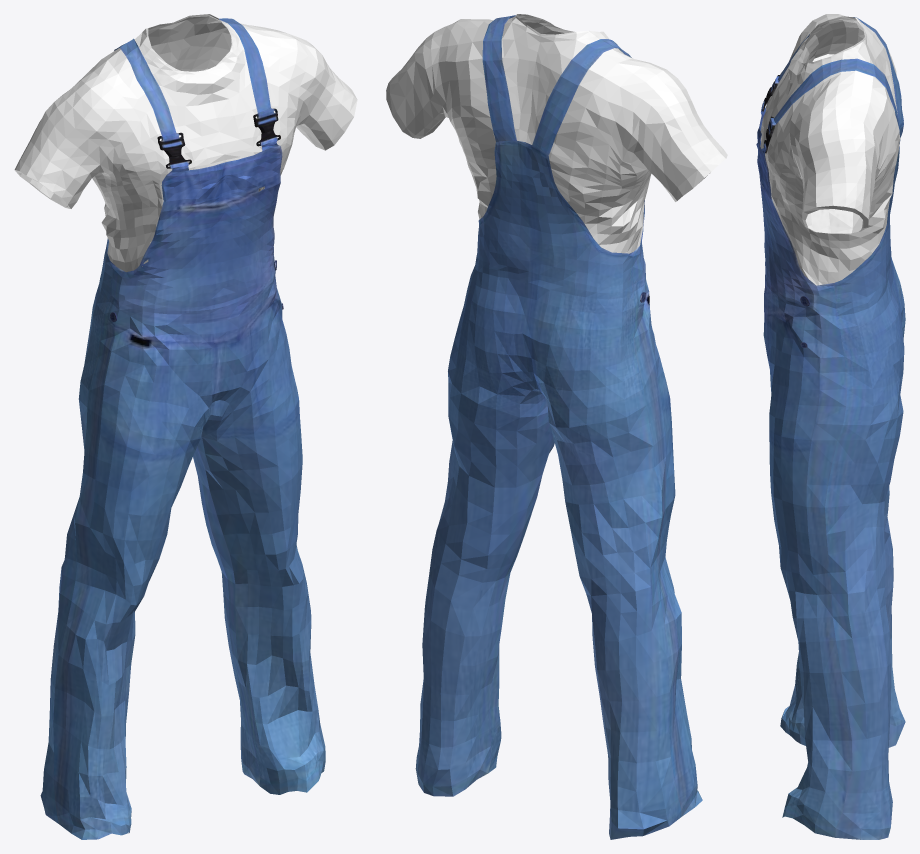
Rendered from mhw_male_worksuit01.glb.
3 renders of one model, left to right at view 1: azimuth 30°, elevation 25°; view 2: azimuth 150°, elevation 25°; view 3: azimuth 270°, elevation 25°, orthographic. The views are drawn at different scales.
Visible parts, largest first — view 1: mhw_male_worksuit01; view 2: mhw_male_worksuit01; view 3: mhw_male_worksuit01.
Part boxes in pixels (left/top/right/bottom): mhw_male_worksuit01: left=14, top=14, right=357, bottom=839; mhw_male_worksuit01: left=386, top=14, right=727, bottom=839; mhw_male_worksuit01: left=756, top=14, right=905, bottom=839.
Bounding box in the file's own units: 0.6915 × 1.57 × 0.2809.
Materials: 1 (1 with a texture image).
